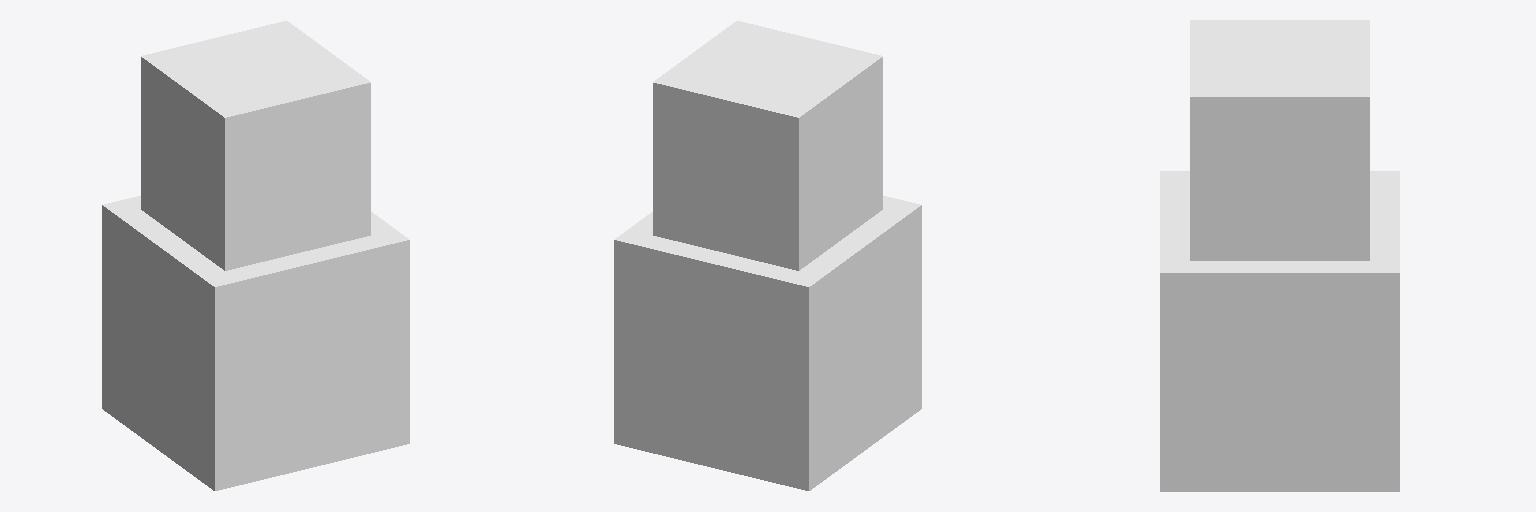
robot.urdf — multi_joint:
<?xml version="1.0" ?>
<!-- =================================================================================== -->
<!-- |    This document was autogenerated by xacro from xMatePro7.xacro                | -->
<!-- |    EDITING THIS FILE BY HAND IS NOT RECOMMENDED                                 | -->
<!-- =================================================================================== -->
<!-- xmate3 manipulator -->
<!--  Attention!!! inertia in the model is not correct!!! -->
<robot name="multi_joint">
  <!-- Constants for robot dimensions -->
  <material name="black">
    <color rgba="0.0 0.0 0.0 1.0"/>
  </material>
  <material name="blue">
    <color rgba="0.0 0.0 0.8 1.0"/>
  </material>
  <material name="green">
    <color rgba="0.0 0.8 0.0 1.0"/>
  </material>
  <material name="grey">
    <color rgba="0.2 0.2 0.2 1.0"/>
  </material>
  <material name="orange">
    <color rgba="1.0 0.4235294117647059 0.0392156862745098 1.0"/>
  </material>
  <material name="brown">
    <color rgba="0.8705882352941177 0.8117647058823529 0.7647058823529411 1.0"/>
  </material>
  <material name="red">
    <color rgba="0.8 0.0 0.0 1.0"/>
  </material>
  <material name="white">
    <color rgba="1.0 1.0 1.0 1.0"/>
  </material>
  <material name="Beige">
    <color rgba="1.0 0.784 0.5765 1.0"/>
  </material>
  <!-- Used for fixing robot to Gazebo 'base_link' -->
  <link name="world"/>
  
  <link name="base_link">
    <visual>
      <geometry>
        <mesh filename="meshes/visual/fixture_box.obj" scale="0.2 0.2 0.2"/>
      </geometry>
      <origin rpy="0 0 0" xyz="0 0 0"/>
      <material name="white"/>
    </visual>
    <inertial>
        <density value="1000"/>
    </inertial>
    <collision>
      <geometry>
        <mesh filename="meshes/visual/fixture_box.obj" scale="0.2 0.2 0.2"/>
      </geometry>
      <origin rpy="0 0 0" xyz="0 0 0"/>
    </collision>
  </link>

  <link name="z_link">
    <visual>
      <geometry>
        <mesh filename="meshes/visual/fixture_box.obj" scale="0.15 0.15 0.15"/>
      </geometry>
      <origin rpy="0 0 0" xyz="0 0 0"/>
      <material name="white"/>
    </visual>
    <inertial>
        <density value="10000"/>
    </inertial>
    <collision>
      <geometry>
        <mesh filename="meshes/visual/fixture_box.obj" scale="0.15 0.15 0.15"/>
      </geometry>
      <origin rpy="0 0 0" xyz="0 0 0"/>
    </collision>
  </link>

  <joint name="fixed" type="fixed">
    <parent link="world"/>
    <child link="base_link"/>
  </joint>

  <joint name="z_joint" type="revolute">
    <parent link="base_link"/>
    <child link="z_link"/>
    <origin rpy="0 0 0" xyz="0 0 0.175"/>
    <axis xyz="0 0 1"/>
    <dynamics damping="10.0"/>
    <limit effort="100" lower="0.0" upper="1000" velocity="1000"/>
    <!-- <mimic joint="panda_finger_joint1"/> -->
  </joint>


</robot>

--- Render facts (derived) ---
Views: 3 orthographic renders of the robot side by side, from view 1: azimuth 30°, elevation 25°; view 2: azimuth 150°, elevation 25°; view 3: azimuth 270°, elevation 25°.
Robot: multi_joint — 3 links, 2 joints (1 revolute, 1 fixed); root link world; default pose: all joints at 0.
Links seen in each view (by area): view 1: base_link, z_link; view 2: base_link, z_link; view 3: base_link, z_link.
Boxes of the visible links, left/top/right/bottom form: base_link: left=102, top=196, right=409, bottom=490; z_link: left=141, top=21, right=370, bottom=270; base_link: left=614, top=196, right=921, bottom=490; z_link: left=653, top=21, right=882, bottom=270; base_link: left=1160, top=171, right=1399, bottom=491; z_link: left=1190, top=20, right=1369, bottom=260.
Size in the robot's own frame: 0.2 by 0.2 by 0.35 metres.
2 mesh visuals loaded from 1 distinct referenced files (1 OBJ).